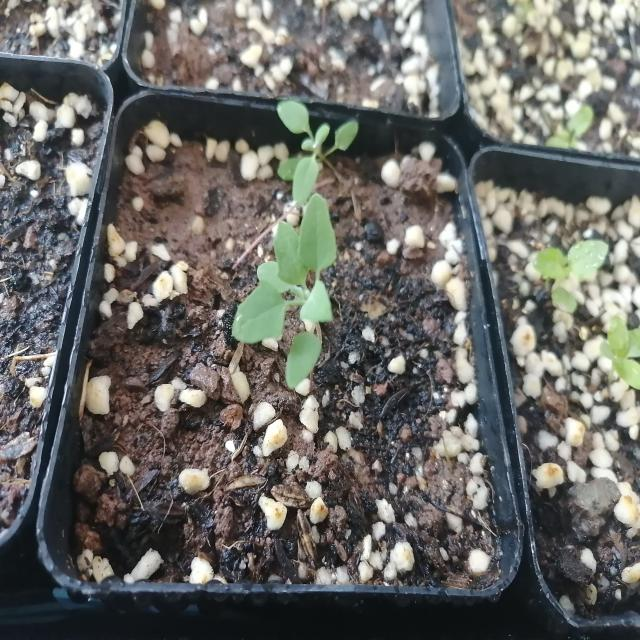goosefoots: (212, 197, 362, 399), (278, 95, 356, 207)
